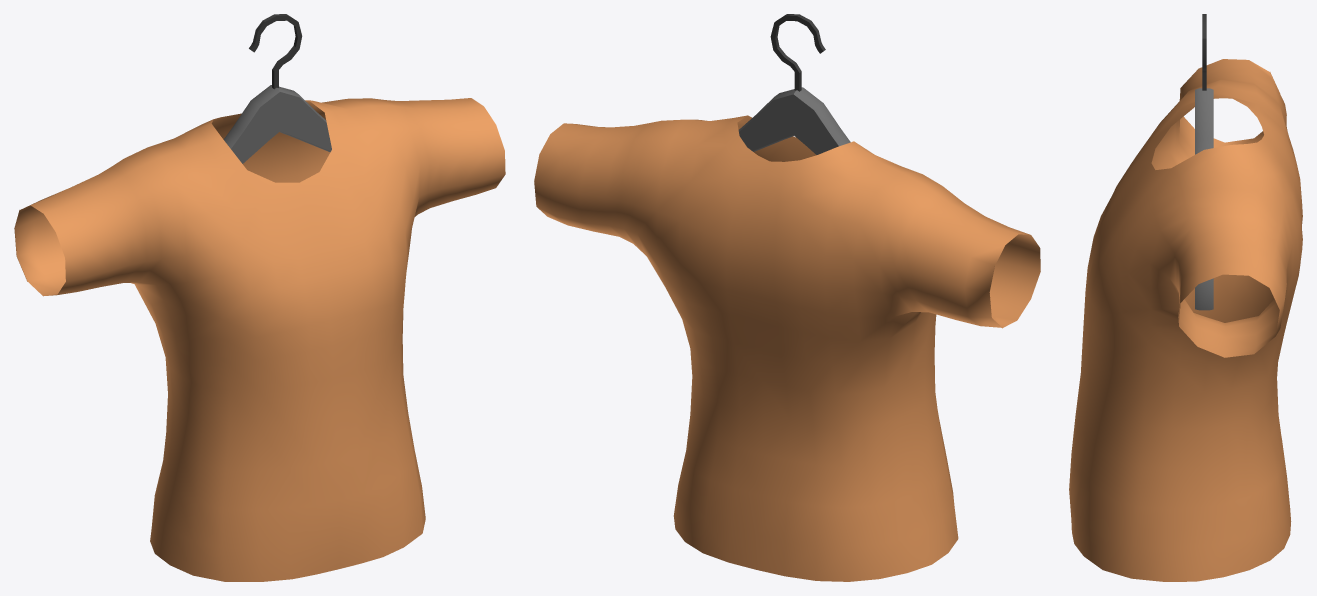
Rendered from T-shirt_uv.fbx.
The picture shows the model from 3 angles, left to right: view 1: azimuth 30°, elevation 25°; view 2: azimuth 150°, elevation 25°; view 3: azimuth 270°, elevation 25°; orthographic projection. The views are drawn at different scales.
Visible parts, largest first — view 1: T shirt, Hanger; view 2: T shirt, Hanger; view 3: T shirt, Hanger.
Part boxes in pixels (<box>): T shirt: <box>14,98,505,581</box>; Hanger: <box>223,14,331,163</box>; T shirt: <box>534,115,1040,581</box>; Hanger: <box>738,14,850,154</box>; T shirt: <box>1069,59,1302,581</box>; Hanger: <box>1195,14,1213,310</box>.
Bounding box in the file's own units: 71.08 × 77.69 × 32.5.
